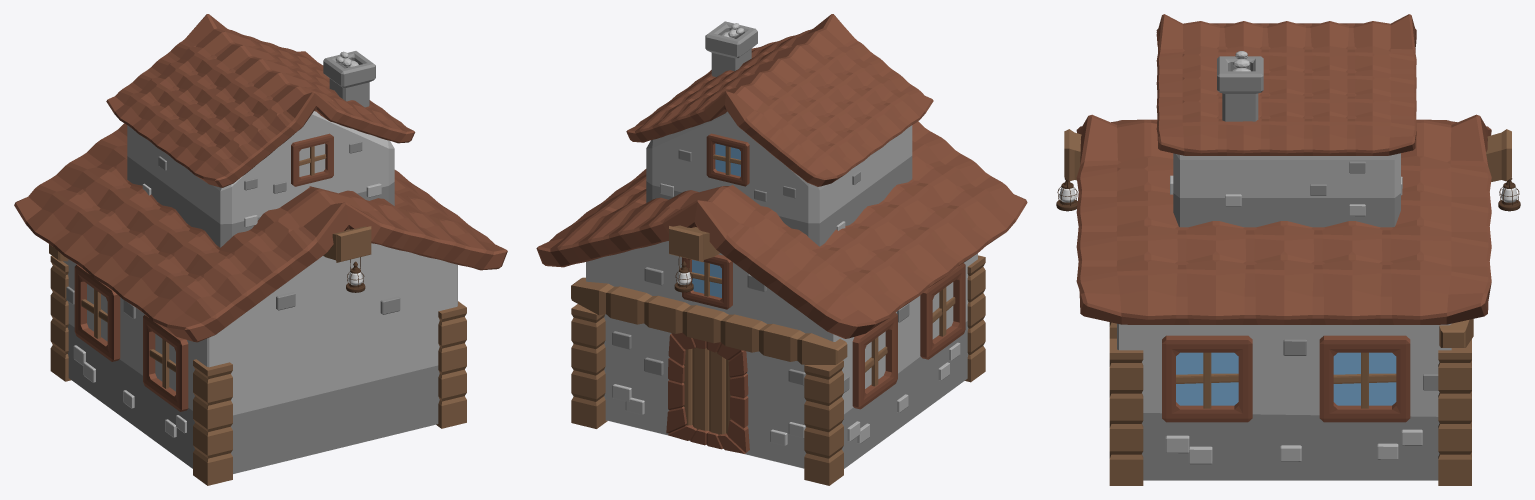
The model's file is house-2.fbx.
3 views of the same model, side by side, from view 1: azimuth 30°, elevation 25°; view 2: azimuth 150°, elevation 25°; view 3: azimuth 270°, elevation 25° (orthographic). The views are drawn at different scales.
Parts seen in each view (by area): view 1: Cube.121; view 2: Cube.121; view 3: Cube.121.
Part boxes in pixels (x1,y1,x2,y2): Cube.121: (14,14,507,485); Cube.121: (536,14,1027,485); Cube.121: (1056,14,1520,485).
Bounding box in the file's own units: 855 × 844 × 891.
